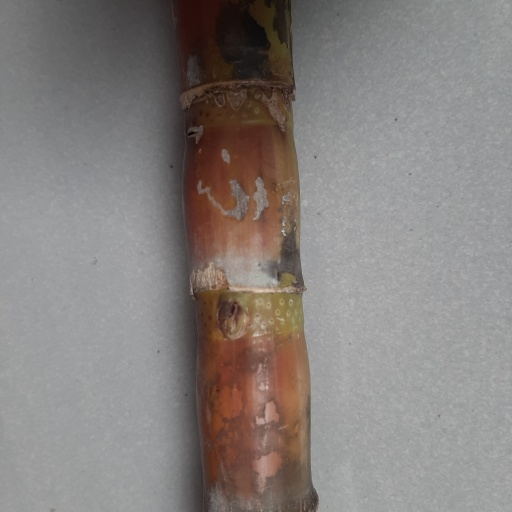Bud: (216, 298, 248, 340)
